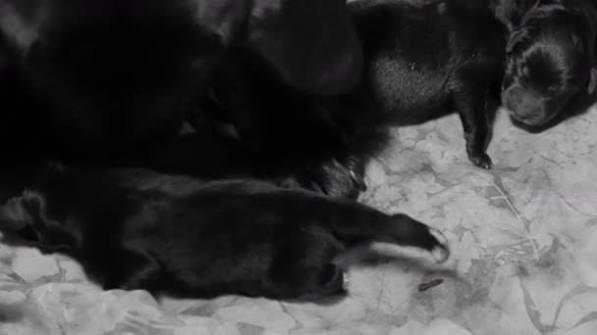adult_dog: (1, 3, 389, 186)
puppy-dog: (1, 163, 448, 304), (344, 2, 508, 167), (496, 2, 597, 132)
